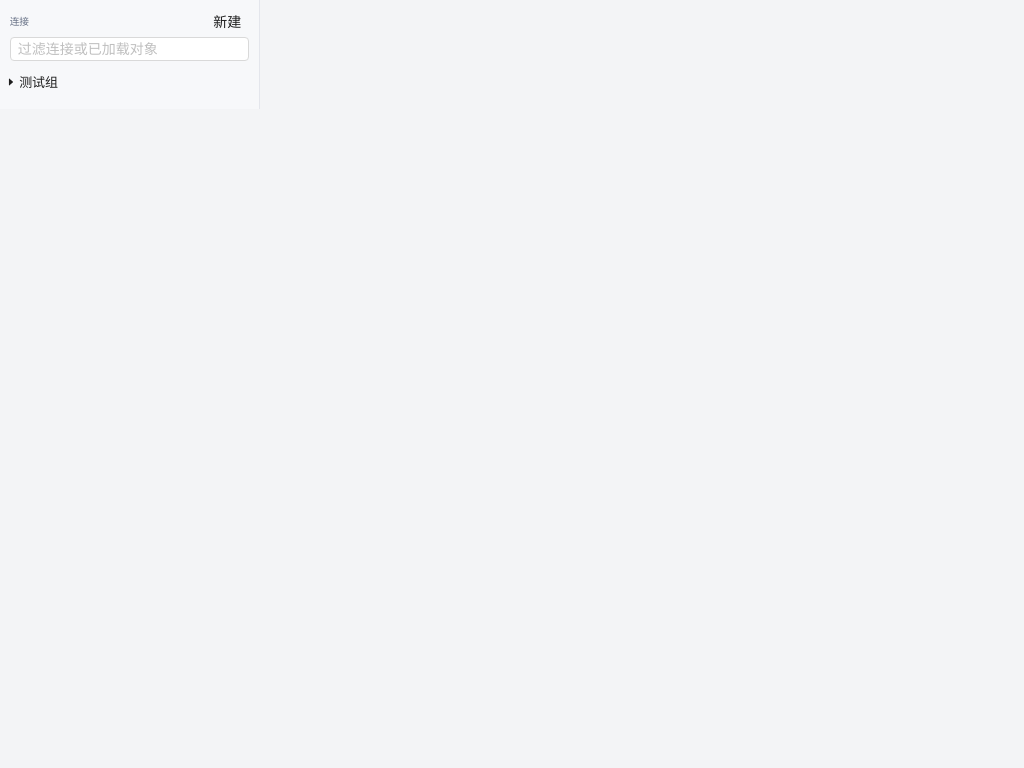
Test: 筛选时重命名整组，保留展开的连接和已加载的数据库
This screenshot has width=1024, height=768.
Earlier steps of the test are not shown.
Right-click the text "测试组" at x=39, y=82, box top-left (19, 74), bottom-right (58, 90)
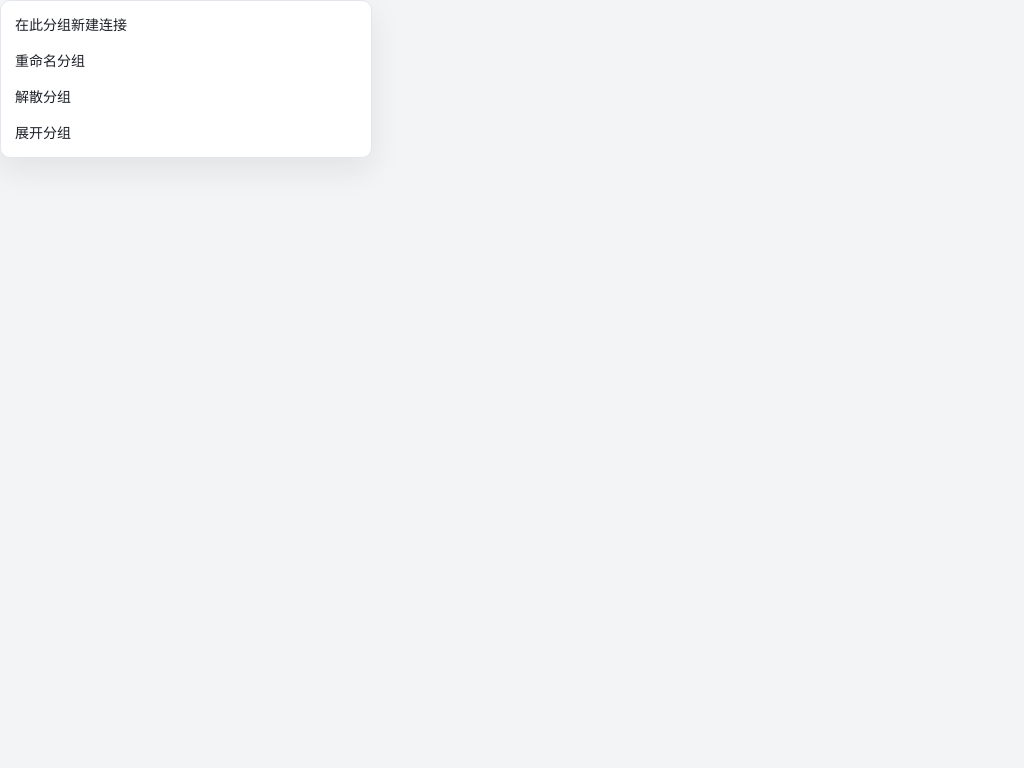
Click the button "展开分组" at x=43, y=132, box top-left (7, 115), bottom-right (365, 151)
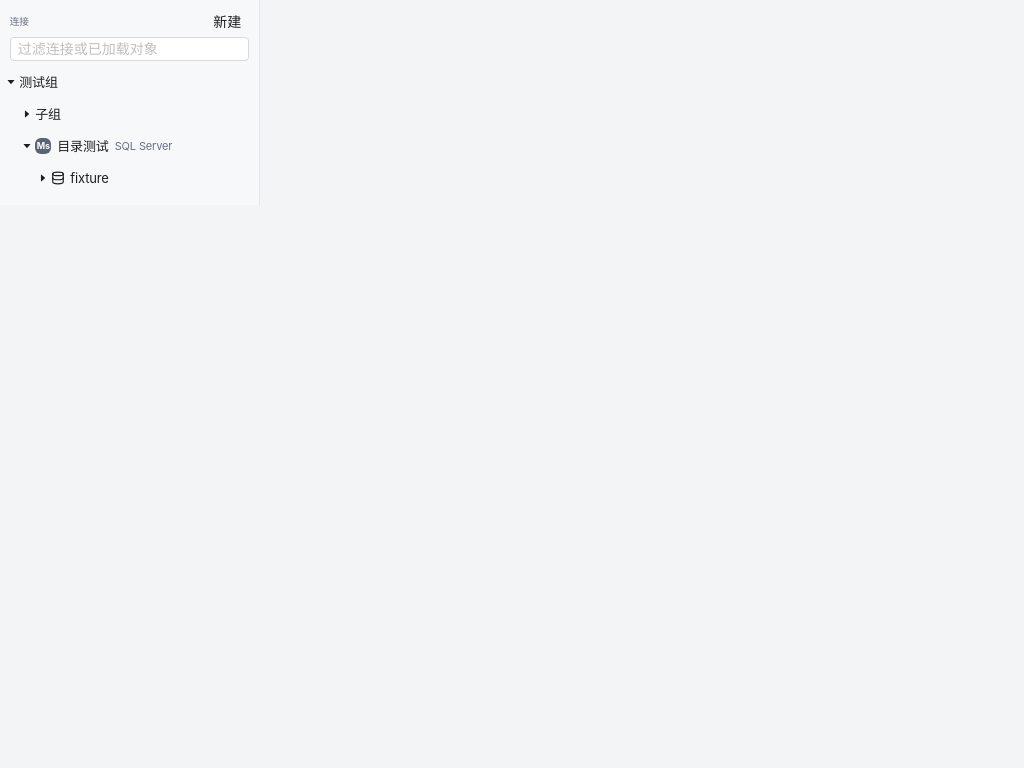
Check: the text "fixture" is shown, box top-left (70, 170), bottom-right (109, 186)
Type "目录测试" into the field with placeholder "过滤连接或已加载对象" at x=122, y=49, box top-left (18, 38), bottom-right (225, 60)
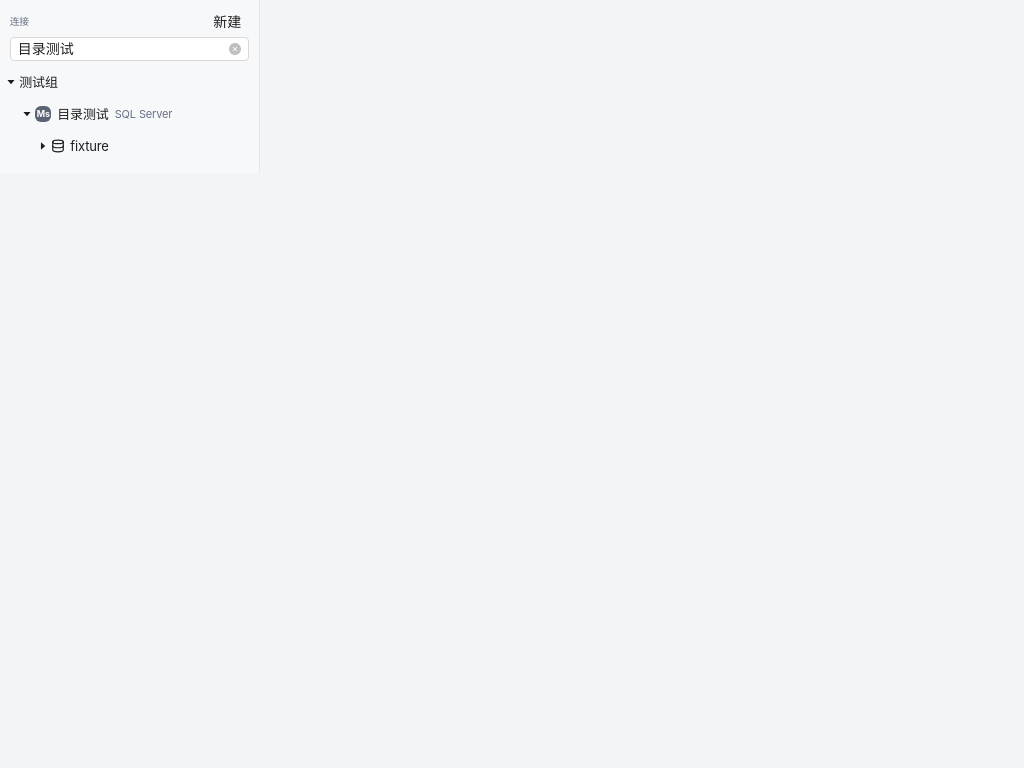
Right-click the text "测试组" at x=39, y=82, box top-left (19, 74), bottom-right (58, 90)
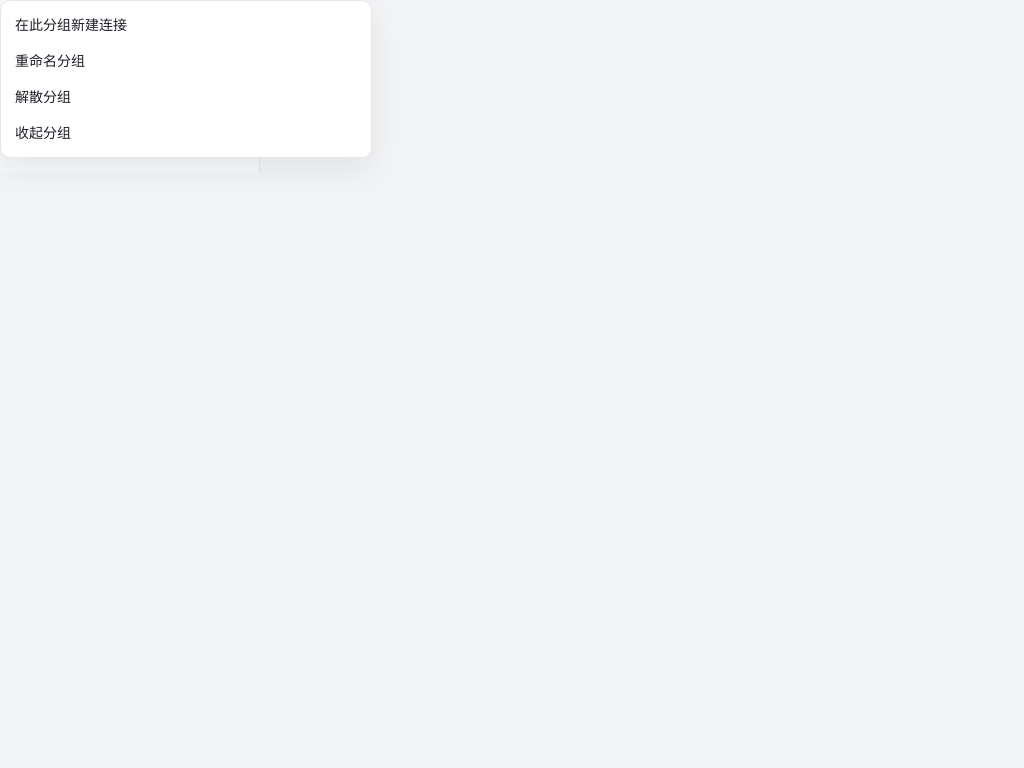
Click the button "重命名分组" at x=50, y=60, box top-left (7, 43), bottom-right (365, 79)
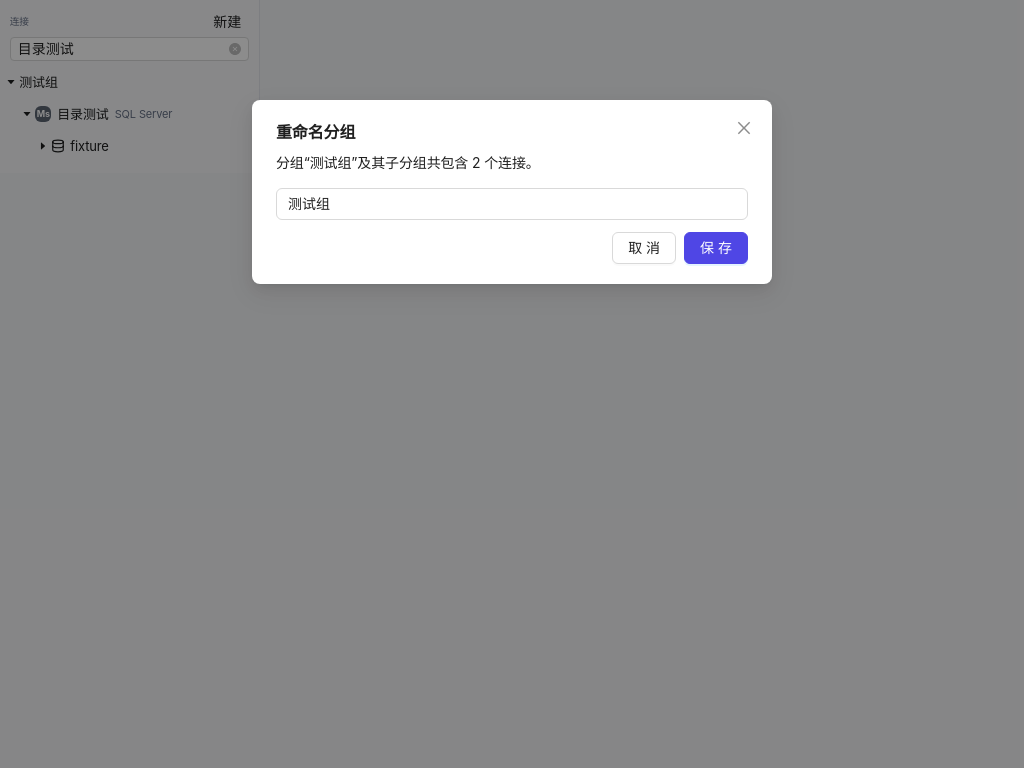
Check: the text "分组“测试组”及其子分组共包含 2 个连接。" is shown, box top-left (276, 154), bottom-right (540, 171)
Replace the text in the field named "分组名称" with "新组" at x=512, y=204, box top-left (276, 188), bottom-right (748, 220)
Click the button "保 存" at x=716, y=248, box top-left (684, 232), bottom-right (748, 264)
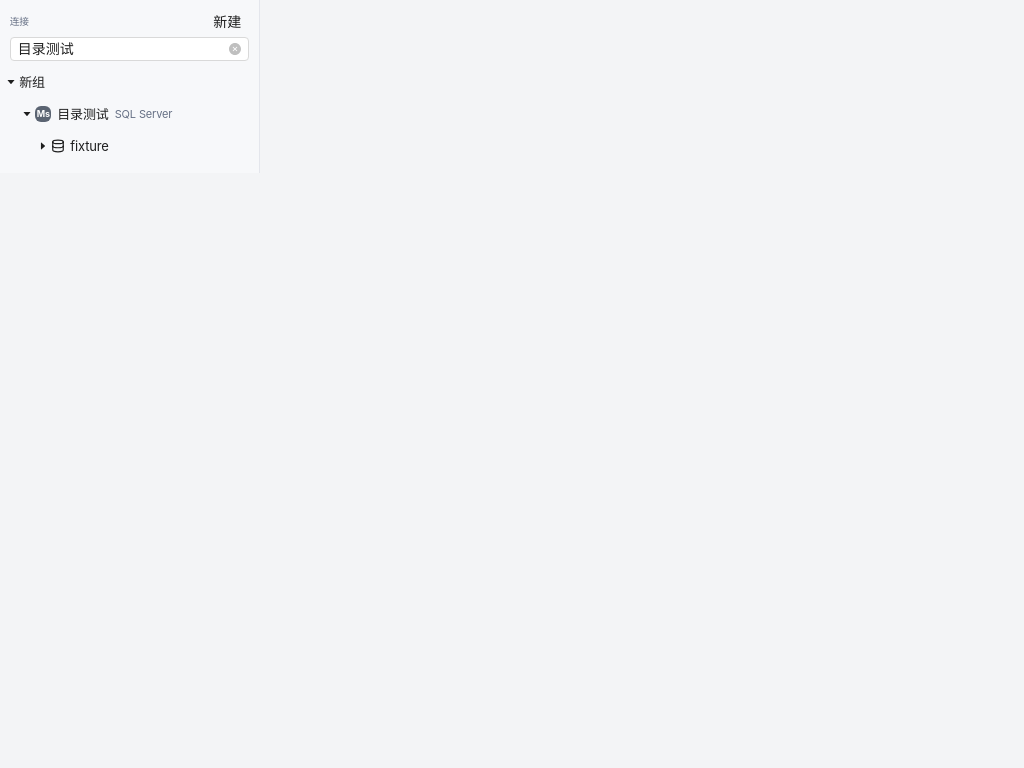
Check: the text "fixture" is shown, box top-left (70, 138), bottom-right (109, 154)
Check: the text "新组" is shown, box top-left (19, 74), bottom-right (45, 90)
